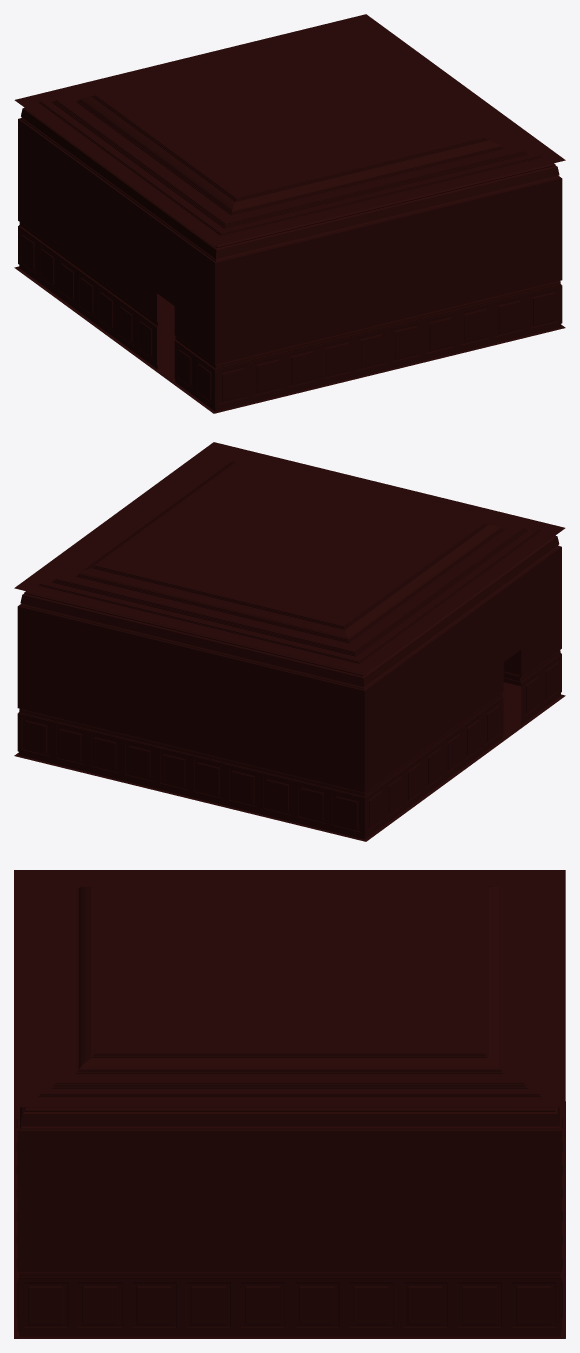
File: 1door_3.FBX
3 views of the same model, one above another, from view 1: azimuth 30°, elevation 25°; view 2: azimuth 150°, elevation 25°; view 3: azimuth 270°, elevation 25° (orthographic). The views are drawn at different scales.
Parts seen in each view (by area): view 1: wall, ceiling, floor; view 2: wall, ceiling, floor; view 3: wall, ceiling, floor.
Part boxes in pixels (x1,y1,x2,y2): wall: (15,14,565,411); ceiling: (29,20,564,239); floor: (14,266,565,413); wall: (14,442,564,839); ceiling: (28,448,550,667); floor: (14,682,565,841); wall: (14,870,565,1338); ceiling: (28,876,551,1101); floor: (14,1101,565,1338).
Size of the model in its own units: 390 by 383 by 192.
